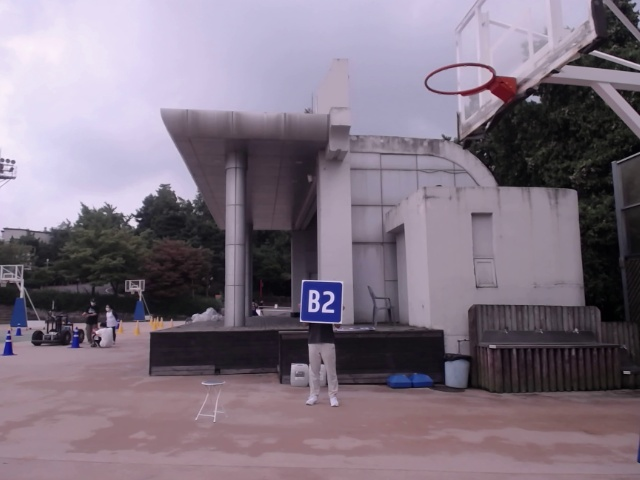delivery_b2: (301, 279, 343, 323)
